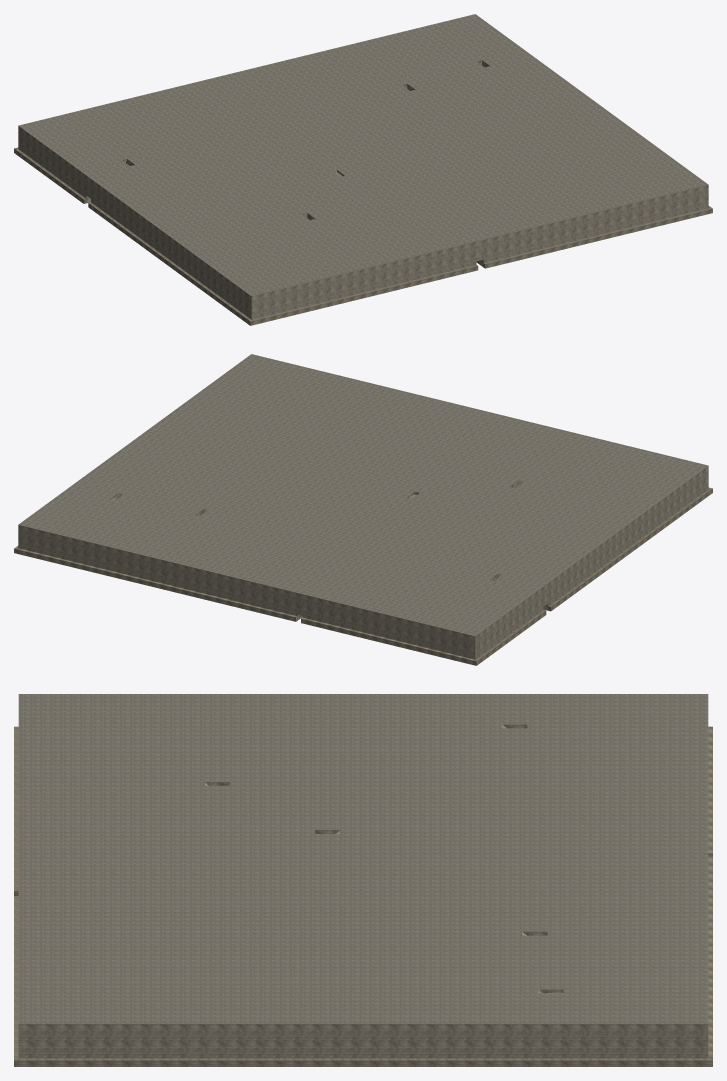
Rendered from fort-base.fort-v2.lod0.glb.
3 views of the same model, one above another, from view 1: azimuth 30°, elevation 25°; view 2: azimuth 150°, elevation 25°; view 3: azimuth 270°, elevation 25° (orthographic). The views are drawn at different scales.
Parts seen in each view (by area): view 1: fort-base; view 2: fort-base; view 3: fort-base.
Part boxes in pixels (<box>): fort-base: <box>14,14,712,325</box>; fort-base: <box>14,354,712,665</box>; fort-base: <box>14,694,712,1066</box>.
Size of the model in its own units: 174 by 10 by 154.
Materials: 4 (4 with a texture image).
